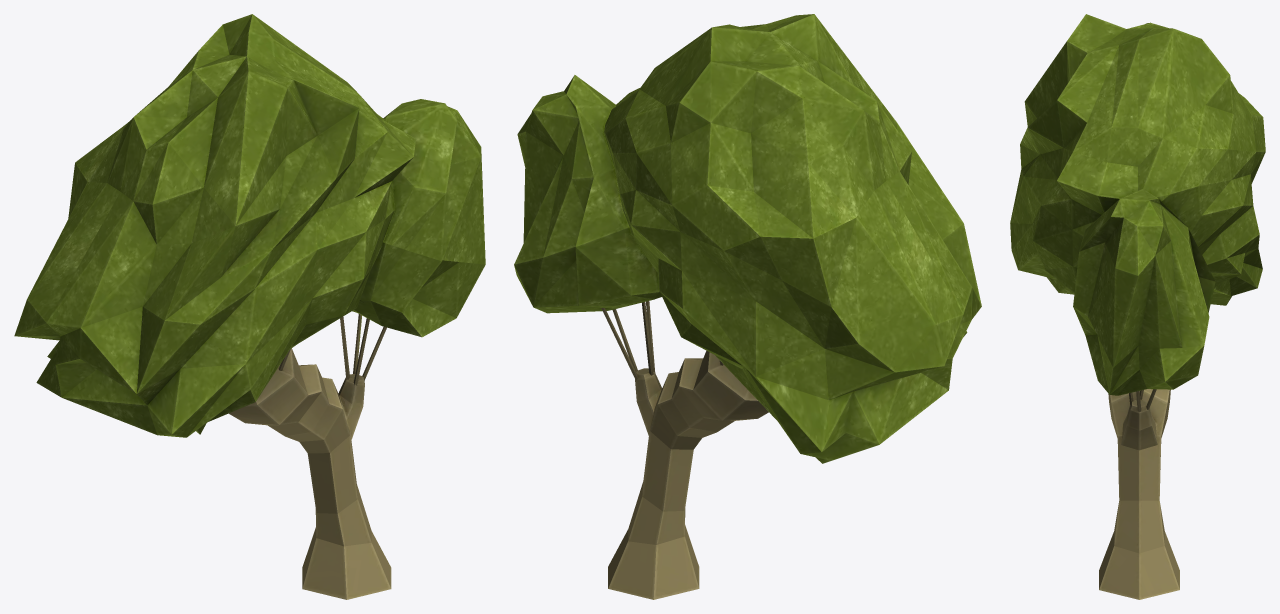
The model's file is tree5-transformed.glb.
The picture shows the model from 3 angles, left to right: view 1: azimuth 30°, elevation 25°; view 2: azimuth 150°, elevation 25°; view 3: azimuth 270°, elevation 25°; orthographic projection. The views are drawn at different scales.
Visible parts, largest first — view 1: PollardWillowTree_mesh; view 2: PollardWillowTree_mesh; view 3: PollardWillowTree_mesh.
Boxes of the visible parts, left/top/right/bottom form: PollardWillowTree_mesh: left=14, top=14, right=485, bottom=599; PollardWillowTree_mesh: left=514, top=14, right=981, bottom=599; PollardWillowTree_mesh: left=1010, top=14, right=1265, bottom=599.
Bounding box in the file's own units: 9.97 × 12.27 × 5.49.
1 material, 1 textured.
